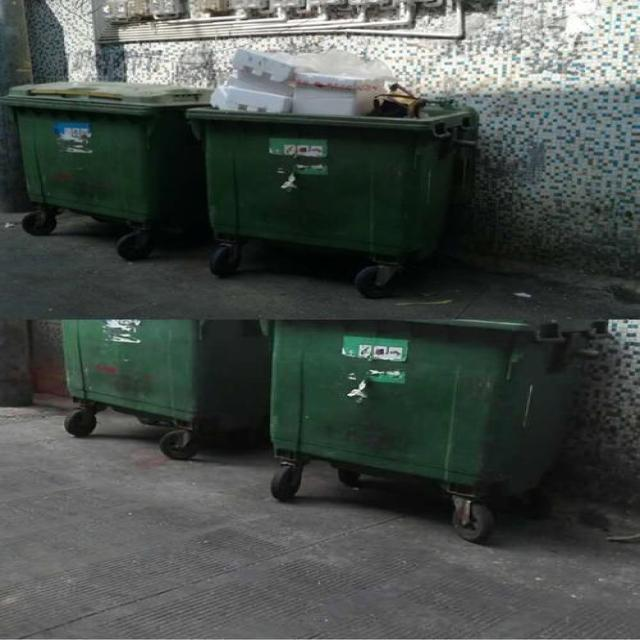garbage_bin: (269, 321, 603, 486), (1, 80, 211, 217), (55, 319, 269, 426)
overflow: (186, 50, 474, 251)
